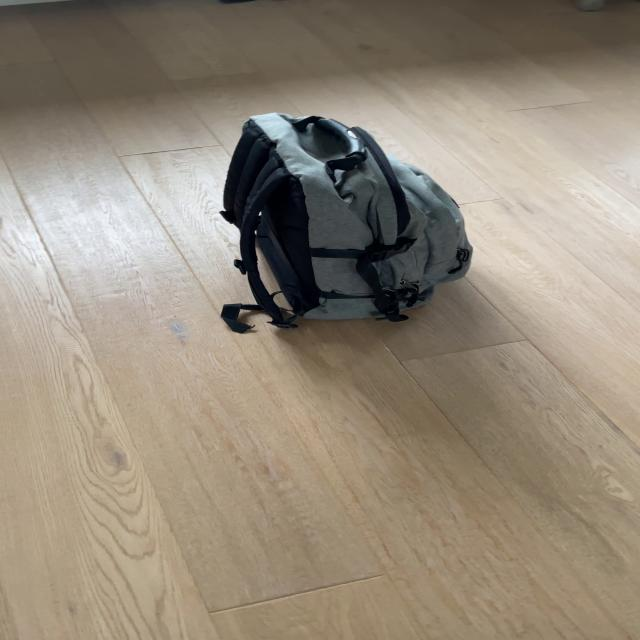backpack: (207, 104, 488, 329)
